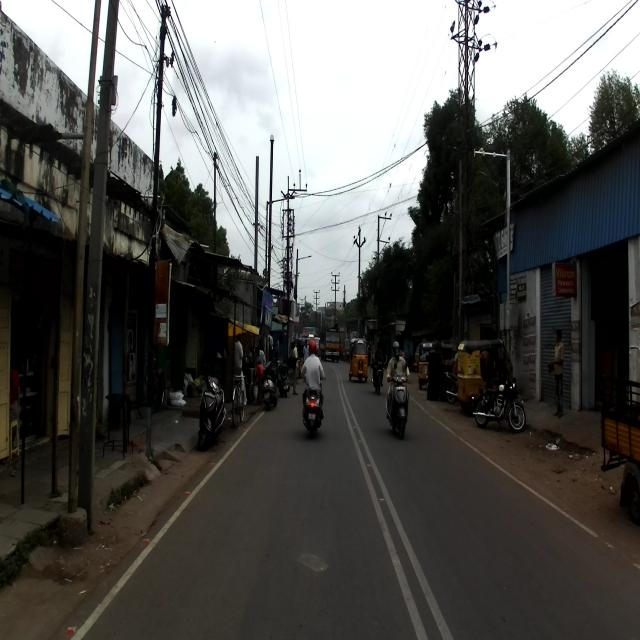autorickshaw: (457, 337, 518, 417)
motorcycle: (469, 374, 530, 434)
scooter: (196, 375, 226, 452), (385, 362, 411, 440), (298, 372, 326, 442)
